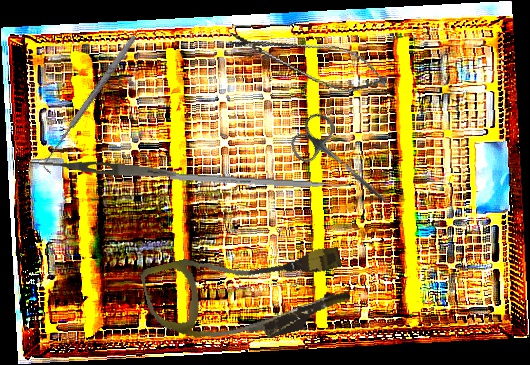Cannula: (139, 222, 355, 365)
Dressing Forceps: (29, 156, 177, 181)
Hook Surgical: (38, 33, 143, 174)
Iris Scissors: (284, 107, 406, 222)
Micro Scissor: (222, 19, 395, 102)
Pusher: (169, 173, 360, 190)
